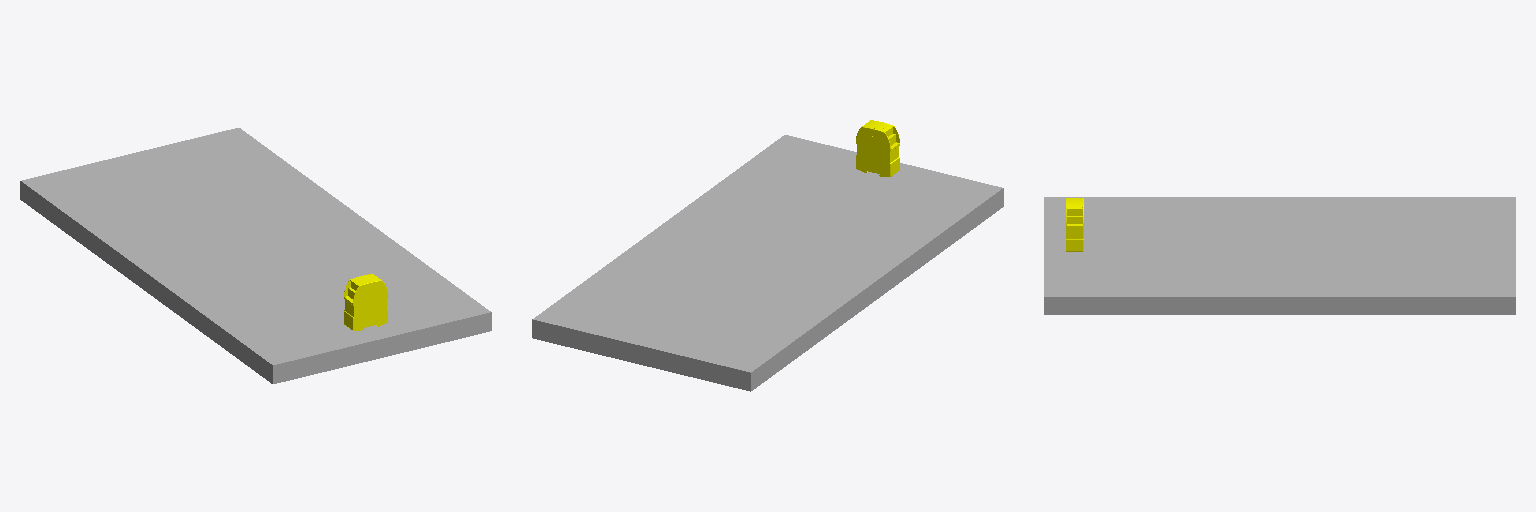
robot.urdf — prbt:
<?xml version="1.0" ?>
<!-- =================================================================================== -->
<!-- |    This document was autogenerated by xacro from my_first_application.xacro     | -->
<!-- |    EDITING THIS FILE BY HAND IS NOT RECOMMENDED                                 | -->
<!-- =================================================================================== -->
<robot name="prbt" xmlns:xacro="http://www.ros.org/wiki/xacro">
  <!-- coloring from the stl file -->
  <material name="yellow">
    <color rgba="1 1 0 1"/>
  </material>
  <!-- coloring from the table -->
  <material name="grey">
    <color rgba="0.75 0.75 0.75 1"/>
  </material>
  <!-- robot foot link -->
  <link name="prbt_base_link">
    <inertial>
      <mass value="2.4"/>
      <inertia ixx="0" ixy="0" ixz="0" iyy="0" iyz="0" izz="0"/>
    </inertial>
    <visual>
      <origin rpy="0 0 0" xyz="0 0 0"/>
      <geometry>
        <mesh filename="package://prbt_support/meshes/foot.dae"/>
      </geometry>
    </visual>
    <collision>
      <origin rpy="3.14159265359 0 0" xyz="0 0 0.065"/>
      <geometry>
        <cylinder length="0.13" radius="0.09275"/>
      </geometry>
    </collision>
  </link>
  <!-- arm 1 joint -->
  <joint name="prbt_joint_1" type="revolute">
    <origin rpy="0 0 -3.14159265359" xyz="0 0 0.2604"/>
    <parent link="prbt_base_link"/>
    <child link="prbt_link_1"/>
    <axis xyz="0 0 1"/>
    <limit effort="370" lower="-2.967" upper="2.967" velocity="1.57"/>
    <dynamics damping="15.0" friction="11"/>
  </joint>
  <!-- arm 1 link -->
  <link name="prbt_link_1">
    <inertial>
      <mass value="7.1"/>
      <origin xyz="0 -0.026 -0.051"/>
      <inertia ixx="3.53e-2" ixy="0" ixz="0" iyy="3.01e-2" iyz="9.04e-3" izz="1.87e-2"/>
    </inertial>
    <visual>
      <origin rpy="0 0 0" xyz="0 0 0"/>
      <geometry>
        <mesh filename="package://prbt_support/meshes/link_1.dae"/>
      </geometry>
    </visual>
    <collision>
      <origin rpy="0 0 0" xyz="0 0 -0.08"/>
      <geometry>
        <cylinder length="0.10" radius="0.07"/>
      </geometry>
    </collision>
    <collision>
      <origin rpy="0 0 0" xyz="0 0 0"/>
      <geometry>
        <sphere radius="0.09"/>
      </geometry>
    </collision>
    <collision>
      <origin rpy="0 1.57079632679 1.57079632679" xyz="0 -0.10 0"/>
      <geometry>
        <cylinder length="0.10" radius="0.065"/>
      </geometry>
    </collision>
  </link>
  <!-- joint between arm_1_link and arm_2_link -->
  <joint name="prbt_joint_2" type="revolute">
    <origin rpy="1.57079632679 0 0" xyz="0 0 0"/>
    <parent link="prbt_link_1"/>
    <child link="prbt_link_2"/>
    <axis xyz="0 0 1"/>
    <limit effort="370" lower="-2.531" upper="2.531" velocity="1.57"/>
    <dynamics damping="12.0" friction="10.0"/>
  </joint>
  <link name="prbt_link_2">
    <inertial>
      <mass value="1.7"/>
      <origin xyz="0 0.162 0.134"/>
      <inertia ixx="3.58e-2" ixy="0" ixz="0" iyy="3.22e-3" iyz="-1.45e-3" izz="3.66e-2"/>
    </inertial>
    <visual name="first">
      <origin rpy="0 0 0" xyz="0 0 0"/>
      <geometry>
        <mesh filename="package://prbt_support/meshes/link_2.dae"/>
      </geometry>
    </visual>
    <collision>
      <origin rpy="0.174532925199 0 0" xyz="0 0.15 0.145"/>
      <geometry>
        <box size="0.121 0.27 0.065"/>
      </geometry>
    </collision>
    <collision>
      <origin rpy="-0.448798950513 0 0" xyz="0 0.3 0.145"/>
      <geometry>
        <box size="0.11 0.1 0.075"/>
      </geometry>
    </collision>
  </link>
  <!-- joint between arm_2_link and arm_3_link -->
  <joint name="prbt_joint_3" type="revolute">
    <origin rpy="0 3.14159265359 0" xyz="0 0.35 0"/>
    <parent link="prbt_link_2"/>
    <child link="prbt_link_3"/>
    <axis xyz="0 0 1"/>
    <limit effort="176" lower="-2.356" upper="2.356" velocity="1.57"/>
    <dynamics damping="4.5" friction="4.5"/>
  </joint>
  <link name="prbt_link_3">
    <inertial>
      <mass value="4.8"/>
      <origin xyz="0 0.043 -0.027"/>
      <inertia ixx="2.06e-2" ixy="0" ixz="0" iyy="1.08e-2" iyz="-5.36e-3" izz="1.63e-2"/>
    </inertial>
    <visual>
      <origin rpy="0 0 0" xyz="0 0 0"/>
      <geometry>
        <mesh filename="package://prbt_support/meshes/link_3.dae"/>
      </geometry>
    </visual>
    <collision>
      <origin rpy="0 0 0" xyz="0 0 -0.11"/>
      <geometry>
        <cylinder length="0.10" radius="0.06"/>
      </geometry>
    </collision>
    <collision>
      <origin rpy="0 0 0" xyz="0 0 0"/>
      <geometry>
        <sphere radius="0.085"/>
      </geometry>
    </collision>
    <collision>
      <origin rpy="0 1.57079632679 1.57079632679" xyz="0 0.10 0"/>
      <geometry>
        <cylinder length="0.10" radius="0.065"/>
      </geometry>
    </collision>
  </link>
  <!-- joint between arm_3_link and arm_4_link -->
  <joint name="prbt_joint_4" type="revolute">
    <origin rpy="-1.57079632679 3.14159265359 0" xyz="0 0 0"/>
    <parent link="prbt_link_3"/>
    <child link="prbt_link_4"/>
    <axis xyz="0 0 1"/>
    <limit effort="176" lower="-2.967" upper="2.967" velocity="1.57"/>
    <dynamics damping="4.2" friction="3.8"/>
  </joint>
  <link name="prbt_link_4">
    <inertial>
      <mass value="0.9"/>
      <origin xyz="0 -0.061 0.204"/>
      <inertia ixx="6.79e-3" ixy="0" ixz="0" iyy="4.91e-3" iyz="2.67e-3" izz="3.40e-3"/>
    </inertial>
    <visual>
      <origin rpy="0 0 0" xyz="0 0 0"/>
      <geometry>
        <mesh filename="package://prbt_support/meshes/link_4.dae"/>
      </geometry>
    </visual>
    <collision>
      <origin rpy="0.966643893412 0 0" xyz="0 -0.04 0.162"/>
      <geometry>
        <box size="0.121 0.08 0.17"/>
      </geometry>
    </collision>
    <collision>
      <origin rpy="-0.10471975512 0 0" xyz="0 -0.115 0.25"/>
      <geometry>
        <box size="0.09 0.06 0.12"/>
      </geometry>
    </collision>
  </link>
  <!-- joint between arm_4_link and arm_5_link -->
  <joint name="prbt_joint_5" type="revolute">
    <origin rpy="1.57079632679 0 3.14159265359" xyz="0 0 0.307"/>
    <parent link="prbt_link_4"/>
    <child link="prbt_link_5"/>
    <axis xyz="0 0 1"/>
    <limit effort="41.6" lower="-2.967" upper="2.967" velocity="1.57"/>
    <dynamics damping="1.5" friction="3.5"/>
  </joint>
  <link name="prbt_link_5">
    <inertial>
      <mass value="2.6"/>
      <origin xyz="-0.001 0.021 -0.032"/>
      <inertia ixx="7.37e-3" ixy="4.78e-6" ixz="6.00e-5" iyy="5.87e-3" iyz="-1.71e-3" izz="3.96e-3"/>
    </inertial>
    <visual>
      <origin rpy="0 0 0" xyz="0 0 0"/>
      <geometry>
        <mesh filename="package://prbt_support/meshes/link_5.dae"/>
      </geometry>
    </visual>
    <collision>
      <origin rpy="0 0 0" xyz="0 0 -0.095"/>
      <geometry>
        <cylinder length="0.08" radius="0.045"/>
      </geometry>
    </collision>
    <collision>
      <origin rpy="0 0 0" xyz="0 0 -0.06"/>
      <geometry>
        <cylinder length="0.04" radius="0.0545"/>
      </geometry>
    </collision>
    <collision>
      <origin rpy="0 0 0" xyz="0 0 0"/>
      <geometry>
        <sphere radius="0.07"/>
      </geometry>
    </collision>
    <collision>
      <origin rpy="0 1.57079632679 1.57079632679" xyz="0 0.05 0"/>
      <geometry>
        <cylinder length="0.03" radius="0.05"/>
      </geometry>
    </collision>
    <collision>
      <origin rpy="0 1.57079632679 1.57079632679" xyz="0 0.05 0"/>
      <geometry>
        <cylinder length="0.049" radius="0.0435"/>
      </geometry>
    </collision>
  </link>
  <!-- joint between arm_5_link and flange -->
  <joint name="prbt_joint_6" type="revolute">
    <origin rpy="-1.57079632679 0 0" xyz="0 0.084 0"/>
    <parent link="prbt_link_5"/>
    <child link="prbt_flange"/>
    <axis xyz="0 0 1"/>
    <limit effort="20.1" lower="-3.124" upper="3.124" velocity="1.57"/>
    <dynamics damping="4.5" friction="7.0"/>
  </joint>
  <!-- Flange -->
  <link name="prbt_flange">
    <inertial>
      <mass value="0.02"/>
      <origin xyz="0 0 0"/>
      <inertia ixx="0" ixy="0" ixz="0" iyy="0" iyz="0" izz="0"/>
    </inertial>
    <visual>
      <origin rpy="0 0 0" xyz="0 0 0"/>
      <geometry>
        <mesh filename="package://prbt_support/meshes/flange.dae"/>
      </geometry>
    </visual>
    <collision>
      <origin rpy="0 0 0" xyz="0 0 -0.0035"/>
      <geometry>
        <cylinder length="0.02" radius="0.0331"/>
      </geometry>
    </collision>
  </link>
  <!-- ROS-Industrial 'base' frame: base_link to robot world coordinate sytem transform -->
  <link name="prbt_base"/>
  <joint name="prbt_base_link-base" type="fixed">
    <origin rpy="0 0 0" xyz="0 0 0"/>
    <parent link="prbt_base_link"/>
    <child link="prbt_base"/>
  </joint>
  <!-- ROS-Industrial 'tool0' frame: all-zeros tool frame -->
  <link name="prbt_tool0"/>
  <joint name="prbt_flange-tool0" type="fixed">
    <origin rpy="0 0 0" xyz="0 0 0"/>
    <parent link="prbt_flange"/>
    <child link="prbt_tool0"/>
  </joint>
  <!-- transmissions for gazebo -->
  <transmission name="prbt_joint_1_trans">
    <type>transmission_interface/SimpleTransmission</type>
    <joint name="prbt_joint_1">
      <hardwareInterface>hardware_interface/PositionJointInterface</hardwareInterface>
    </joint>
    <actuator name="prbt_joint_1_motor"/>
  </transmission>
  <transmission name="prbt_joint_2_trans">
    <type>transmission_interface/SimpleTransmission</type>
    <joint name="prbt_joint_2">
      <hardwareInterface>hardware_interface/PositionJointInterface</hardwareInterface>
    </joint>
    <actuator name="prbt_joint_2_motor"/>
  </transmission>
  <transmission name="prbt_joint_3_trans">
    <type>transmission_interface/SimpleTransmission</type>
    <joint name="prbt_joint_3">
      <hardwareInterface>hardware_interface/PositionJointInterface</hardwareInterface>
    </joint>
    <actuator name="prbt_joint_3_motor"/>
  </transmission>
  <transmission name="prbt_joint_4_trans">
    <type>transmission_interface/SimpleTransmission</type>
    <joint name="prbt_joint_4">
      <hardwareInterface>hardware_interface/PositionJointInterface</hardwareInterface>
    </joint>
    <actuator name="prbt_joint_4_motor"/>
  </transmission>
  <transmission name="prbt_joint_5_trans">
    <type>transmission_interface/SimpleTransmission</type>
    <joint name="prbt_joint_5">
      <hardwareInterface>hardware_interface/PositionJointInterface</hardwareInterface>
    </joint>
    <actuator name="prbt_joint_5_motor"/>
  </transmission>
  <transmission name="prbt_joint_6_trans">
    <type>transmission_interface/SimpleTransmission</type>
    <joint name="prbt_joint_6">
      <hardwareInterface>hardware_interface/PositionJointInterface</hardwareInterface>
    </joint>
    <actuator name="prbt_joint_6_motor"/>
  </transmission>
  <gazebo>
    <plugin filename="libgazebo_ros_control.so" name="gazebo_ros_control">
      <robotNamespace>prbt</robotNamespace>
    </plugin>
  </gazebo>
  <link name="table">
    <visual>
      <origin rpy="0 0 0" xyz="0 0 -0.03"/>
      <geometry>
        <box size="0.6 1.2 0.05"/>
      </geometry>
      <material name="grey"/>
    </visual>
  </link>
  <link name="pnoz">
    <visual>
      <origin rpy="1.5708 0 0" xyz="0 -0.5 0"/>
      <geometry>
        <mesh filename="package://pilz_tutorial/urdf/meshes/PNOZ.stl" scale="0.001 0.001 0.001"/>
      </geometry>
      <material name="yellow"/>
    </visual>
  </link>
  <!-- Add the tcp (tutorial 2) -->
  <link name="prbt_tcp"/>
  <joint name="table_joint" type="fixed">
    <parent link="table"/>
    <child link="prbt_base_link"/>
  </joint>
  <joint name="pnoz_joint" type="fixed">
    <parent link="table"/>
    <child link="pnoz"/>
  </joint>
  <!-- connect the added tcp and the flange with a joint (tutorial 2)-->
  <joint name="prbt_fixed_joint_tcp" type="fixed">
    <origin rpy="0 0 0" xyz="0 0 0.05"/>
    <parent link="prbt_flange"/>
    <child link="prbt_tcp"/>
  </joint>
</robot>

--- What the picture shows (computed from the rendered views, not written in the file) ---
The picture shows the robot from 3 angles, left to right: view 1: azimuth 30°, elevation 25°; view 2: azimuth 150°, elevation 25°; view 3: azimuth 270°, elevation 25°; orthographic projection.
Model prbt with 12 links and 11 joints (6 revolute, 5 fixed), rooted at table, posed all joints at 0.
Links seen in each view (by area): view 1: table, pnoz; view 2: table, pnoz; view 3: table, pnoz.
Link boxes in pixels (x1,y1,x2,y2): table: (20, 128, 491, 383); pnoz: (344, 274, 387, 330); table: (532, 135, 1003, 391); pnoz: (856, 120, 899, 176); table: (1044, 197, 1515, 314); pnoz: (1066, 198, 1083, 251).
Size in the robot's own frame: 0.6 by 1.2 by 0.175 metres.
Meshes: 8 distinct files referenced, 1 mesh visuals loaded (1 binary STL); not drawn: 7 (reference not matched to a file when rendering).